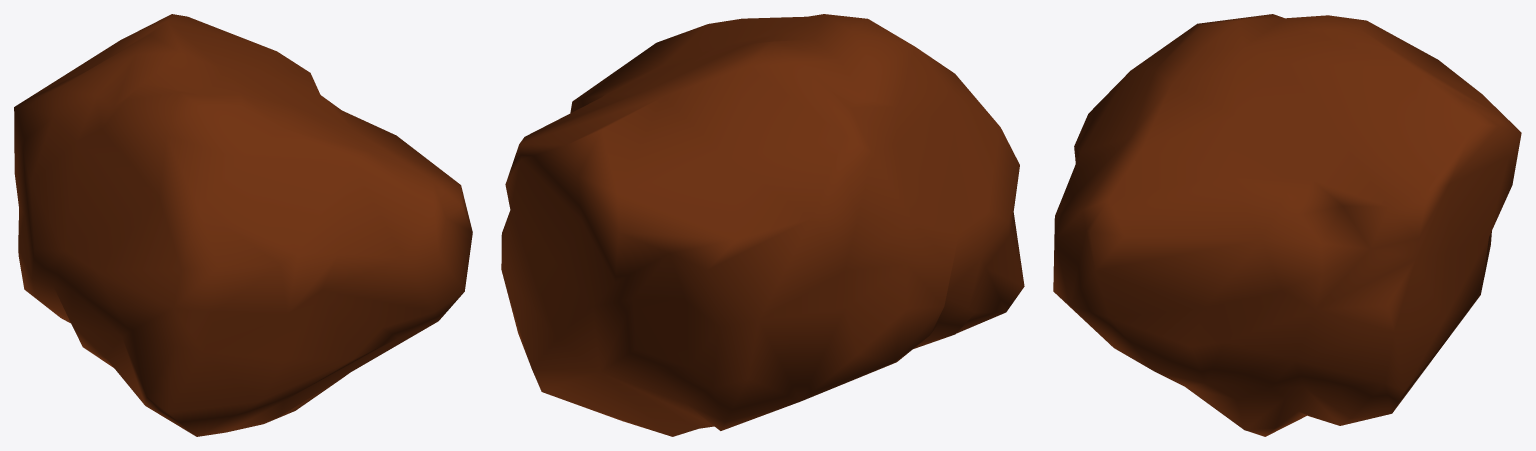
File: FM_M_Well_Stone_09.fbx
3 views of the same model, side by side, from view 1: azimuth 30°, elevation 25°; view 2: azimuth 150°, elevation 25°; view 3: azimuth 270°, elevation 25° (orthographic). The views are drawn at different scales.
Parts seen in each view (by area): view 1: FM_M_Well_Stone_09; view 2: FM_M_Well_Stone_09; view 3: FM_M_Well_Stone_09.
Part boxes in pixels (left/top/right/bottom): FM_M_Well_Stone_09: left=14, top=14, right=472, bottom=436; FM_M_Well_Stone_09: left=501, top=14, right=1024, bottom=436; FM_M_Well_Stone_09: left=1053, top=14, right=1521, bottom=436.
Size of the model in its own units: 0.2912 by 0.2907 by 0.3431.
